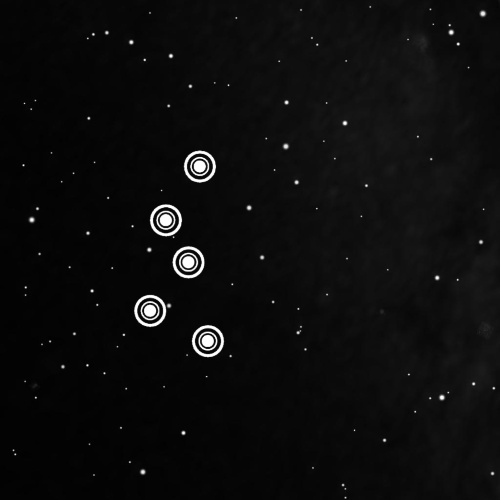cassiopeia: (127, 138, 231, 367)
